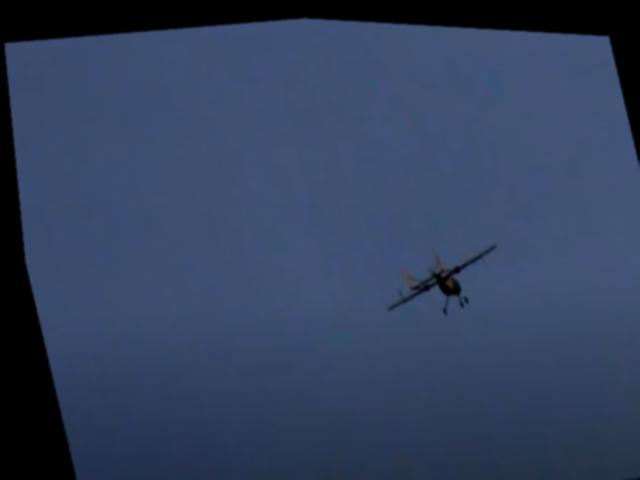iha: (367, 226, 517, 324)
